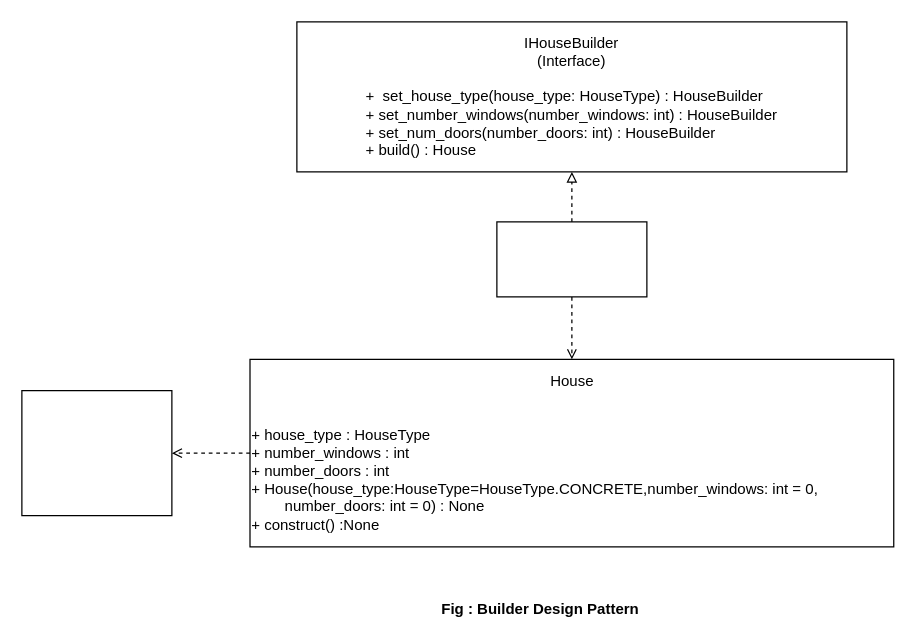
Image size: 916x644. Some labels were removed from this diagram. Each missing label, with the box of its shape:
HouseBuilder + house:House: (496, 221, 647, 297)
HouseType (Enum) + WOOD + MUD + CONCRETE: (21, 389, 172, 516)
